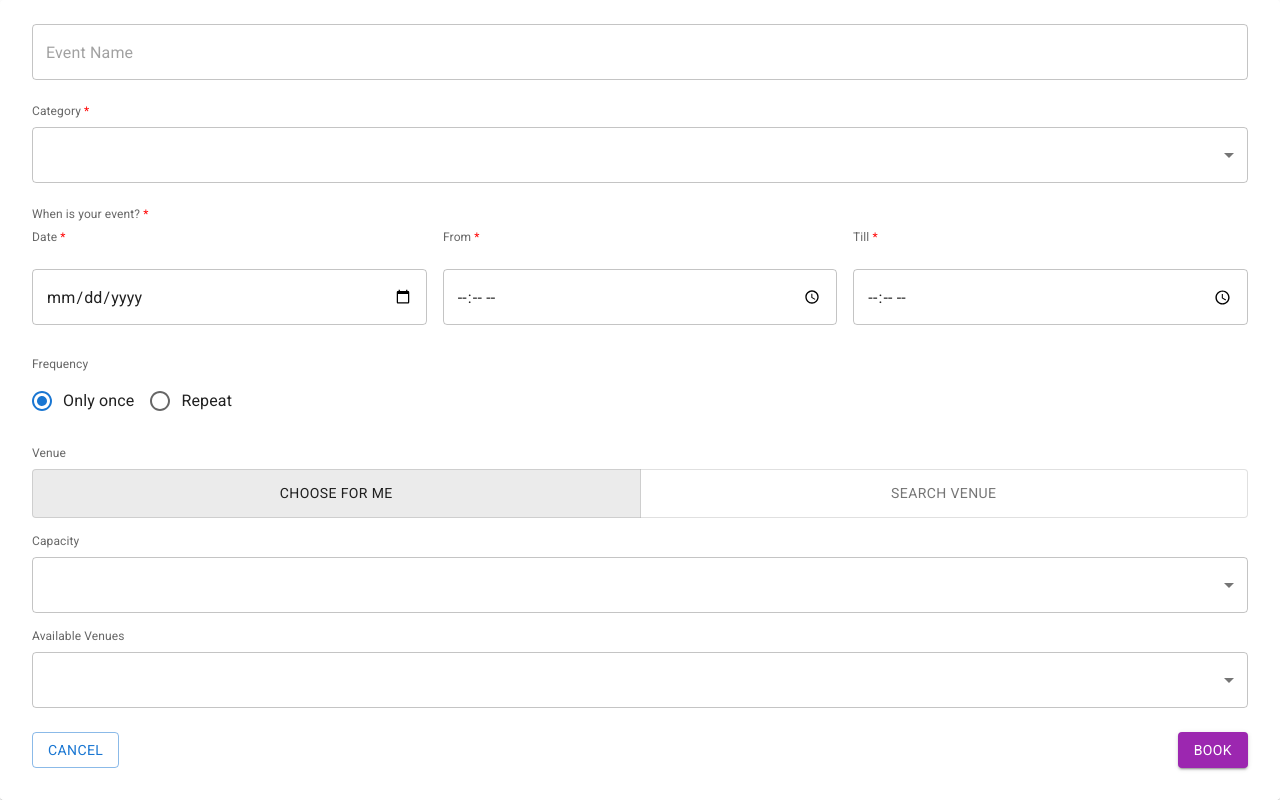
Scenario: BookVenueForm Component › shows validation errors for empty fields on submit
This screenshot has width=1280, height=800.
(page scrolled)
What coordinates should you click on to do the following:
click the button "Book"
I would click on:
 (1213, 750)
Its box is [1178,732,1248,768].
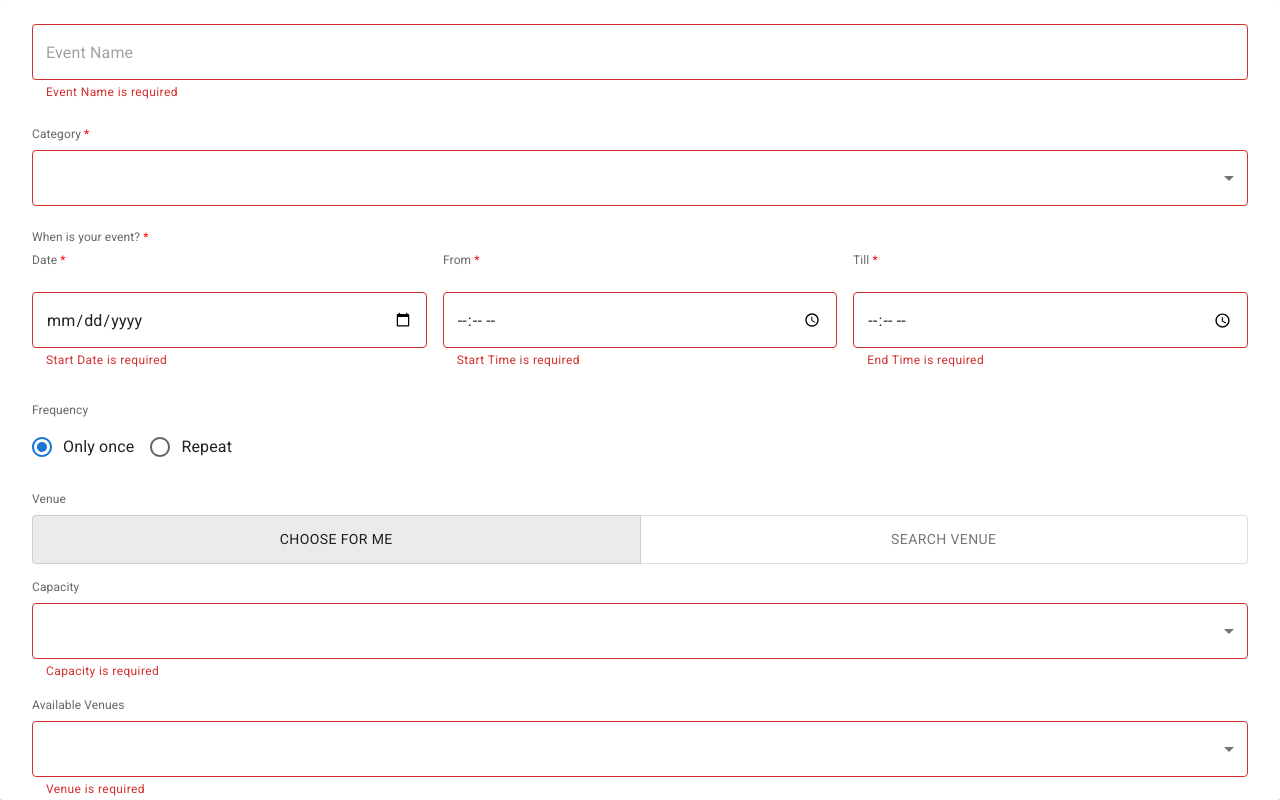
Expected: the text "Event Name is required" is shown, [46,85,178,99]
Expected: the text "Start Date is required" is shown, [46,353,167,367]
Expected: the text "Start Time is required" is shown, [457,353,580,367]
